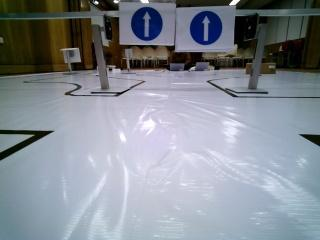straight: (179, 6, 232, 50), (119, 3, 170, 45)
